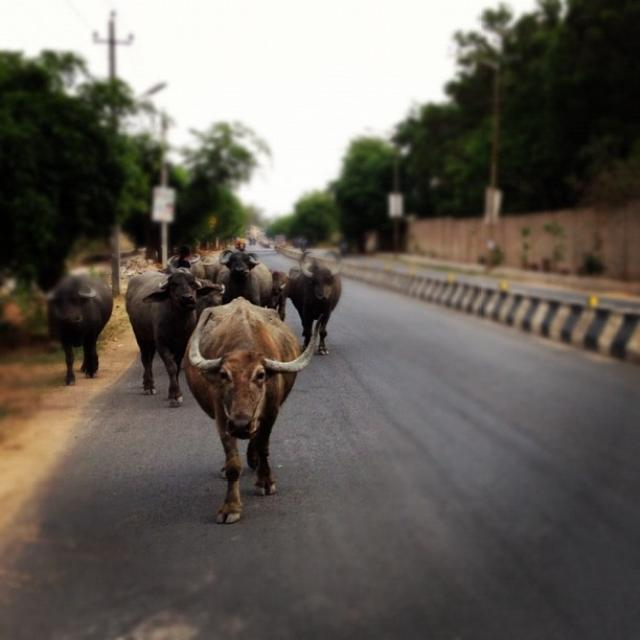cow: (185, 293, 317, 519), (126, 271, 199, 404), (43, 264, 113, 390), (286, 248, 342, 353), (218, 249, 267, 302), (183, 268, 224, 319), (265, 263, 288, 319), (198, 252, 225, 282)
